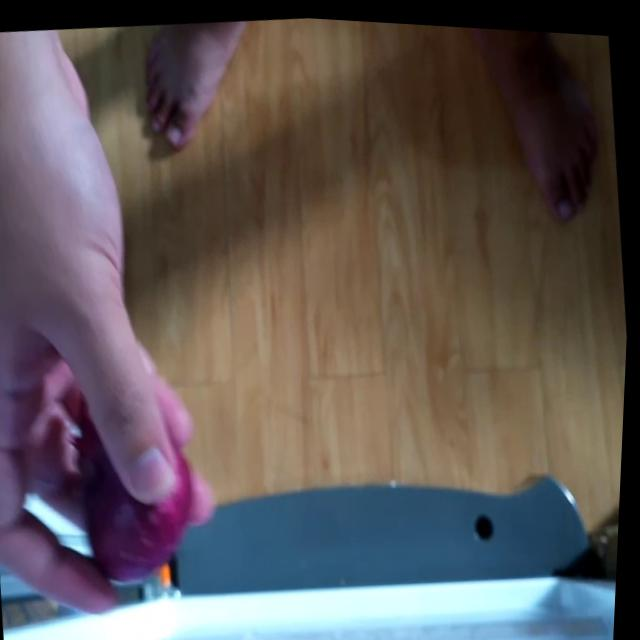onion: (76, 413, 210, 581)
